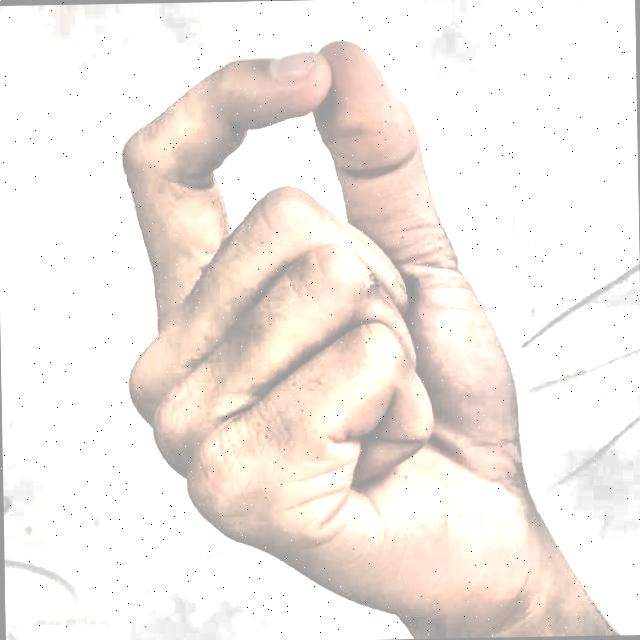Gha: (81, 21, 574, 640)
